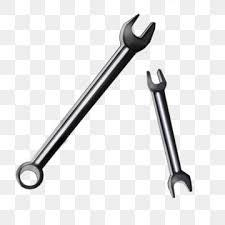wrench: (144, 67, 193, 198)
